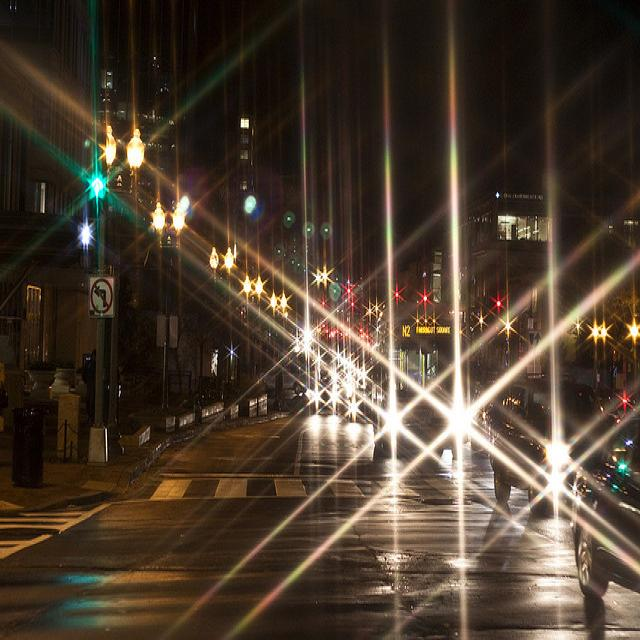Vehicle: (490, 383, 615, 534), (571, 412, 640, 599), (369, 319, 452, 447), (370, 370, 463, 472), (469, 386, 509, 452), (258, 364, 306, 394), (336, 388, 374, 425)
